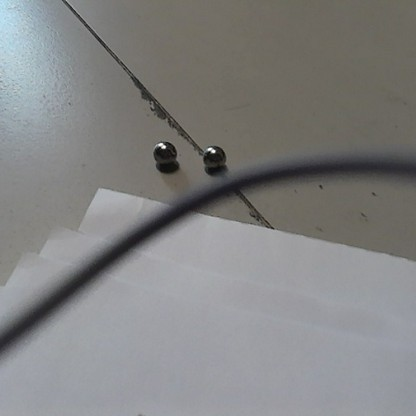ironball: (199, 139, 233, 171), (149, 136, 180, 169)
